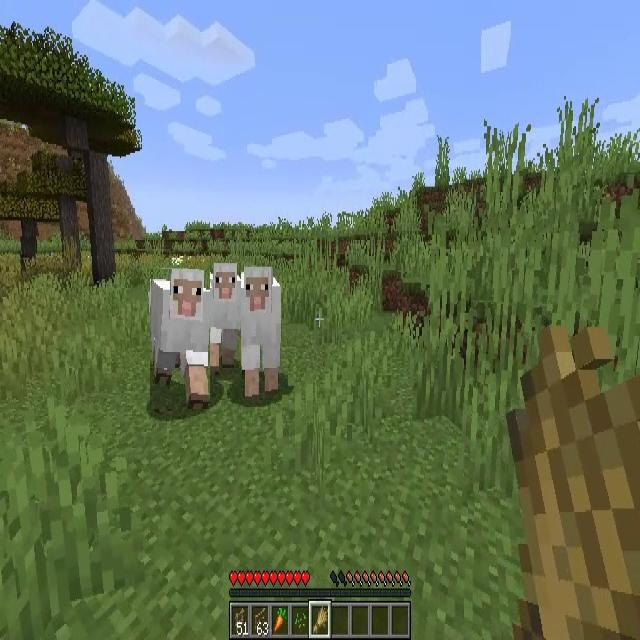sheep: (150, 269, 210, 409), (240, 267, 282, 396), (210, 262, 241, 382)
